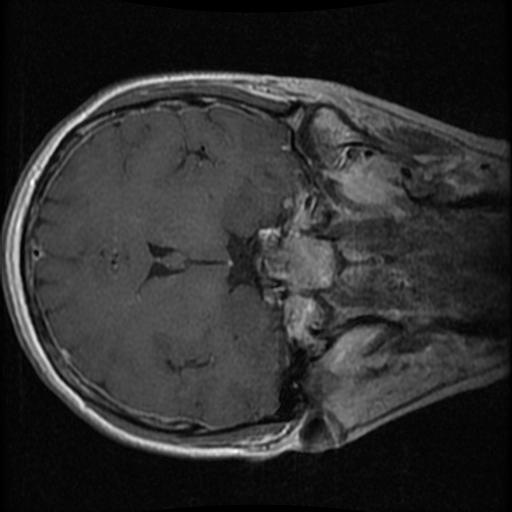pituitary tumour: (259, 227, 284, 280)
